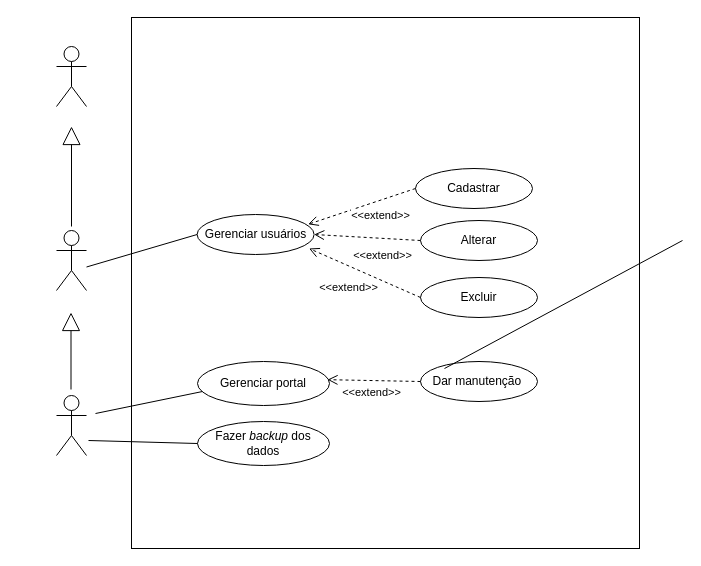
Image size: 701x566. Some labels were removed from this diagram. Each missing label, with the centre of its shape:
"Presidente" belongs at point 71,260.
"Secretário" belongs at point 71,76.
"Super Administrador" belongs at point 71,425.
